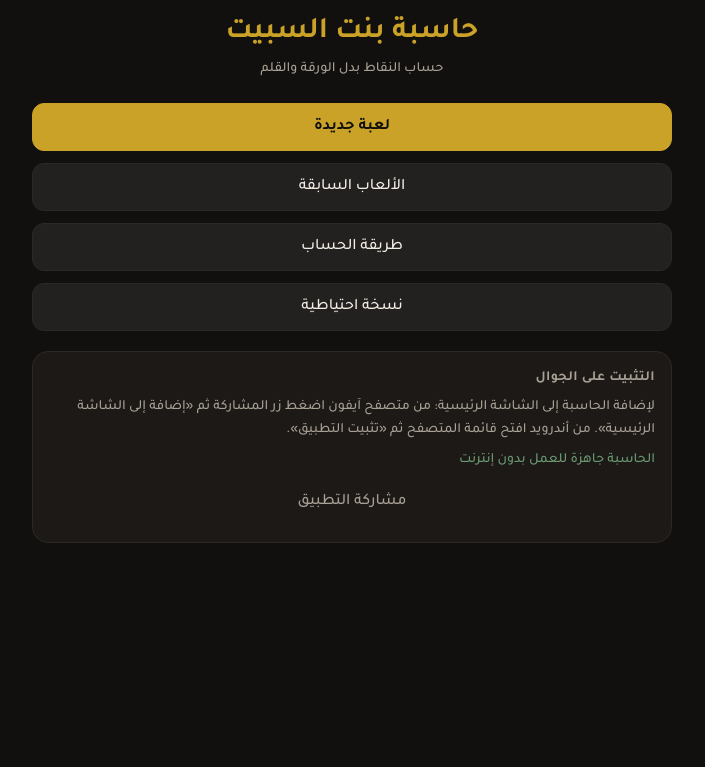
starting a game › creates a five-player game from the default names
The width and height of the screenshot is (705, 767).
Click the button "لعبة جديدة" at (352, 127), box [32,103,672,151]
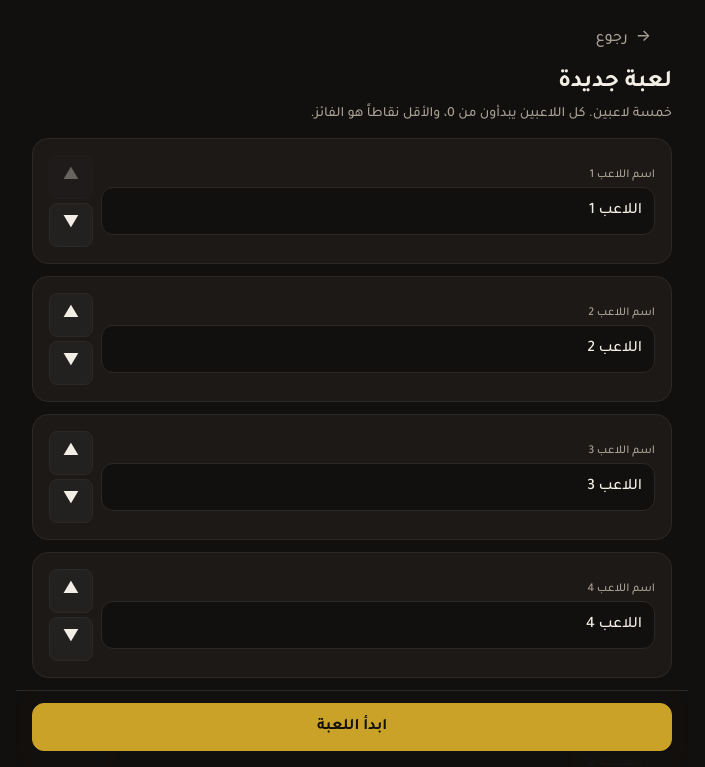
Click the button "ابدأ اللعبة" at (352, 727), box [32,703,672,751]
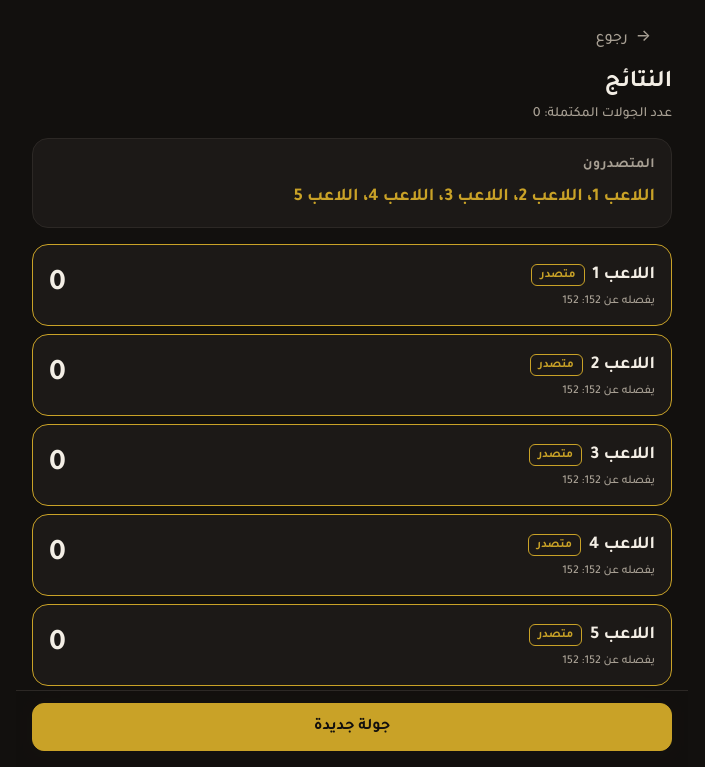
Now the heading "النتائج" is shown, box [604,71,672,95]
Now the heading "اللاعب 1" is shown, box [592,261,655,289]
Now the heading "اللاعب 2" is shown, box [591,351,655,379]
